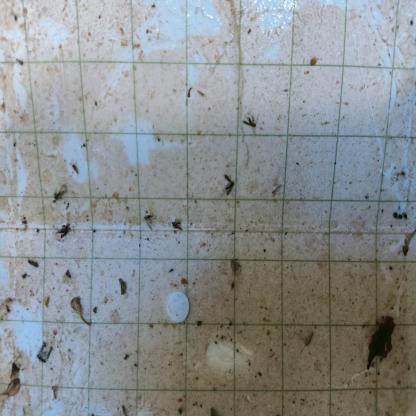prays_oleae: (54, 218, 73, 246), (223, 168, 238, 198), (51, 186, 69, 211), (242, 111, 258, 139), (143, 210, 157, 228), (26, 255, 41, 271), (170, 219, 184, 235)
